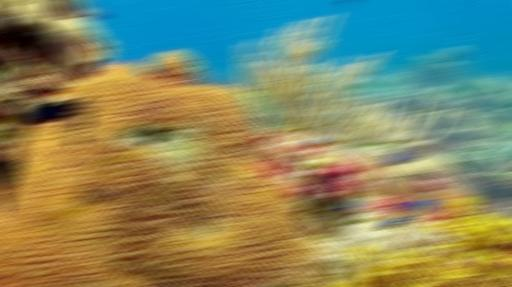Fish: (31, 100, 82, 123), (407, 198, 432, 214), (382, 151, 409, 165), (79, 7, 108, 20), (382, 217, 411, 228), (336, 198, 357, 210), (306, 137, 325, 148), (207, 80, 226, 88), (374, 179, 384, 191), (344, 0, 357, 5)
